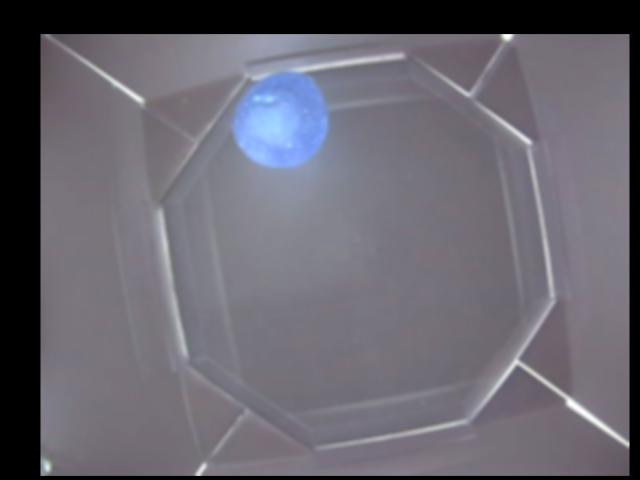Potato: (232, 72, 325, 170)
